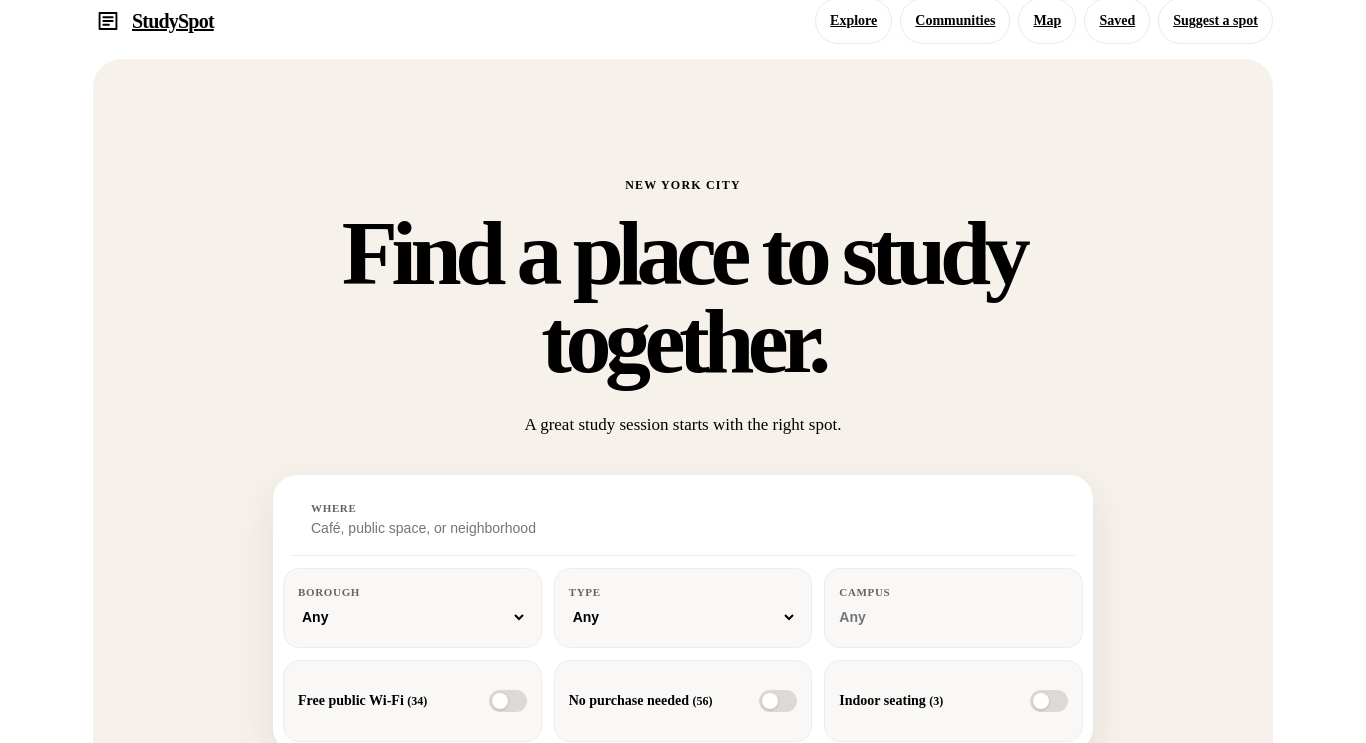
Test: the search box › stops a filter searching for a word deleted from it
Type "library" into the field labelled "Where" at (625, 528), box [311,519,939,538]
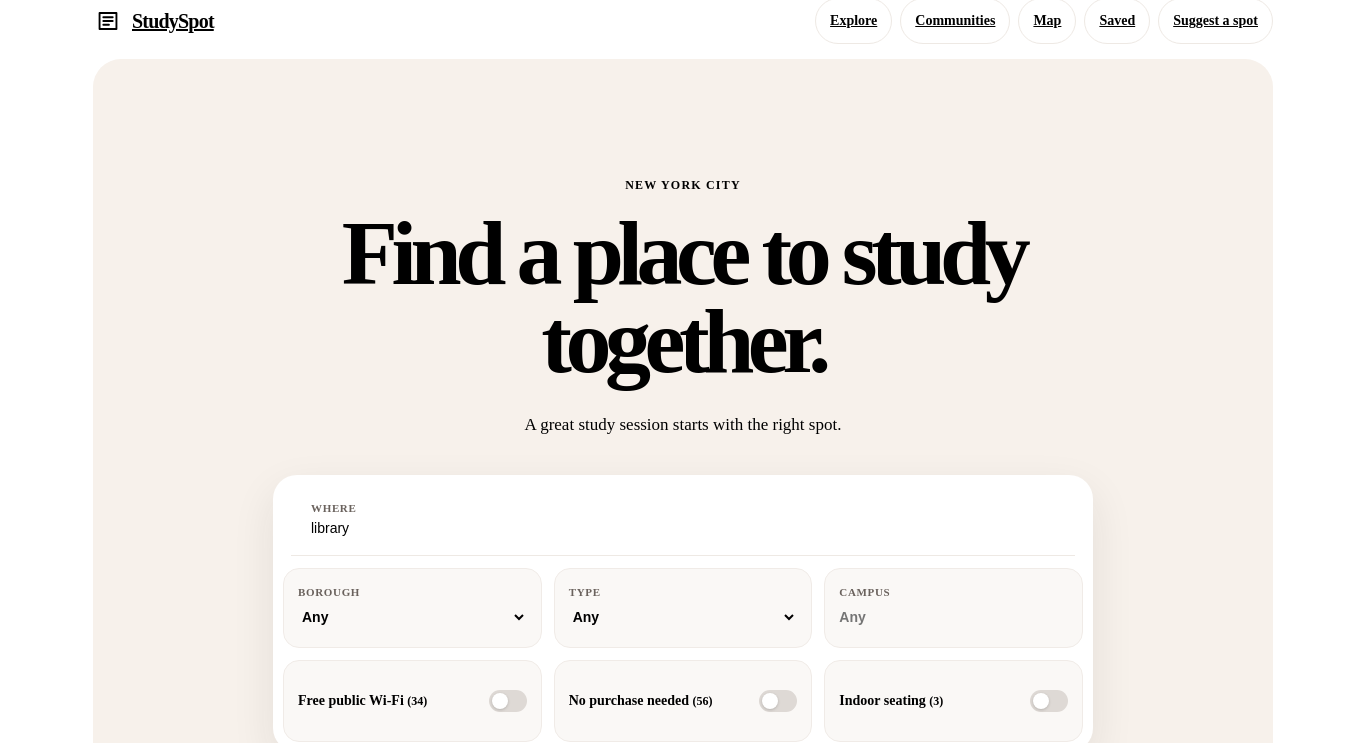
Click the button "Search" at (1025, 520), box [959,493,1091,547]
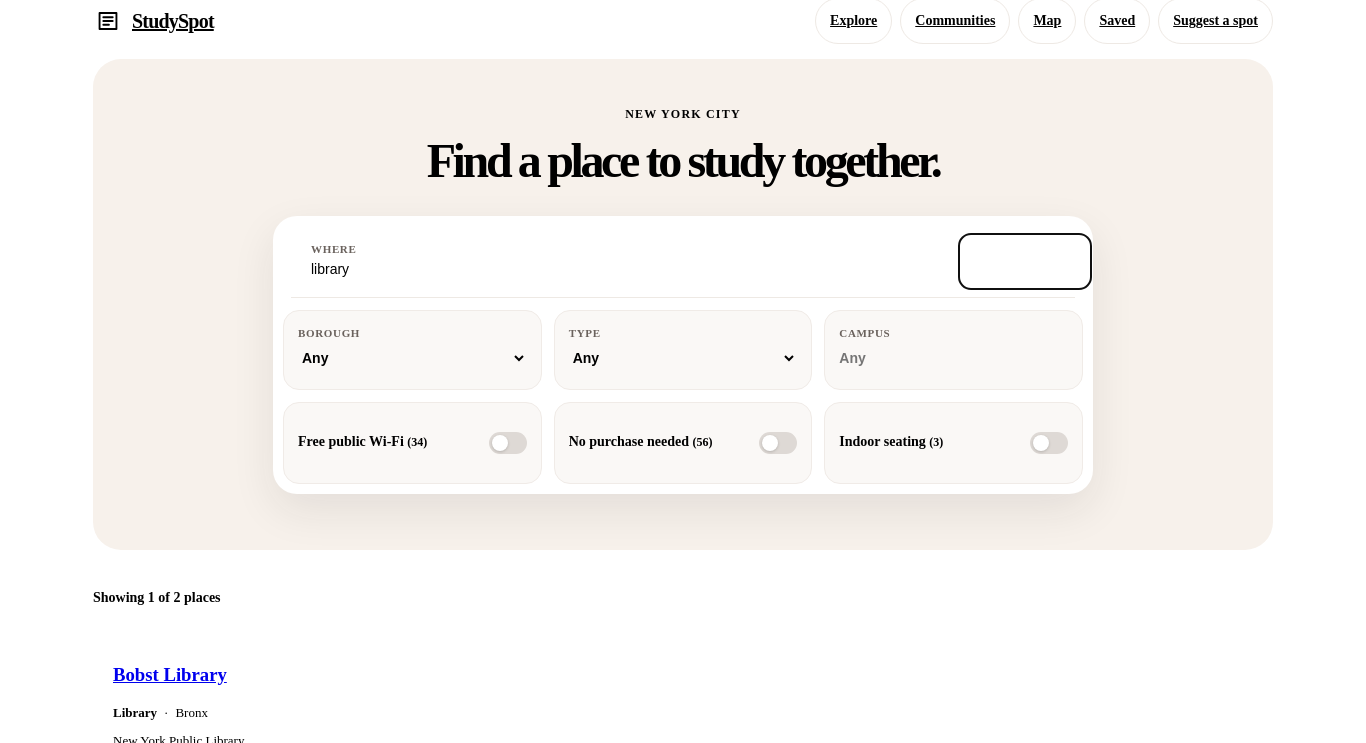
expect the link "Bobst Library" is shown: met, box [113,664,227,685]
Clear the field labelled "Where" at (625, 270), box [311,260,939,280]
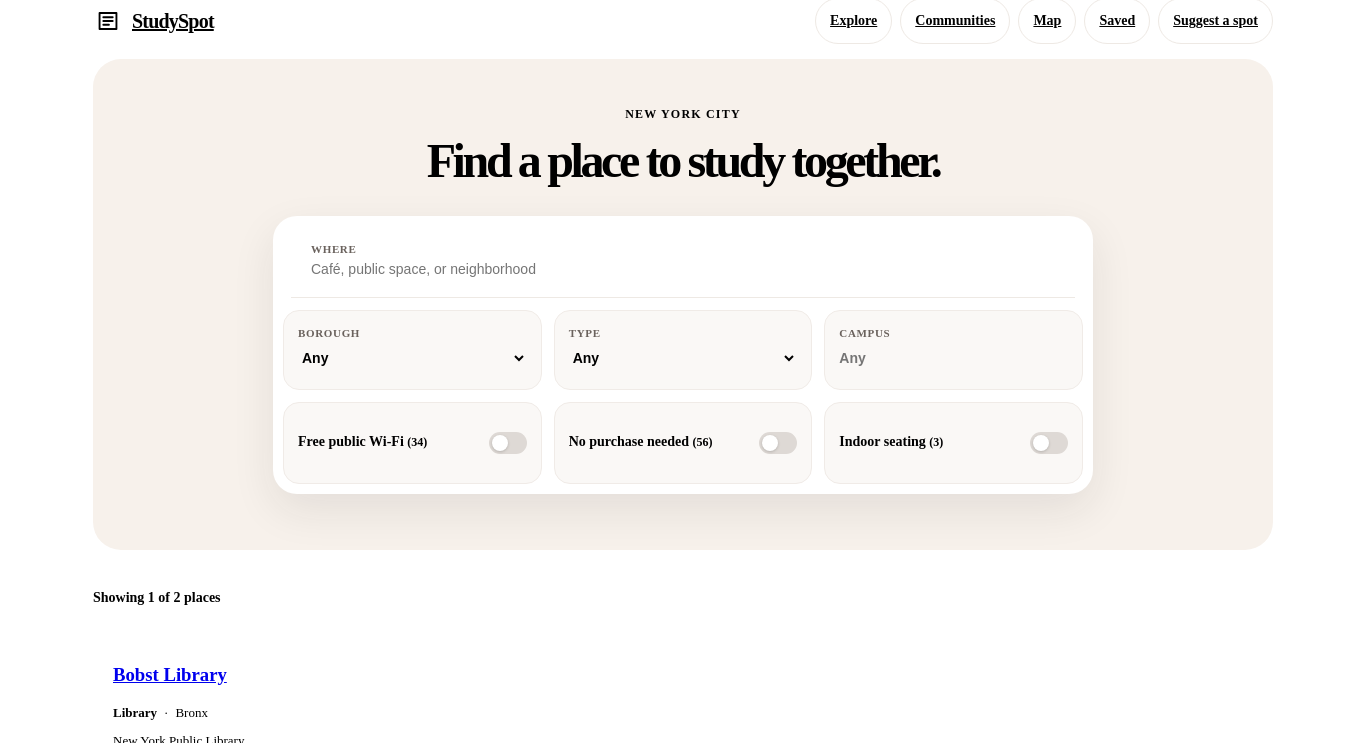
Select "Bronx (48)" in the dropdown labelled "Borough" at (412, 358), box [298,344,527,372]
(page scrolled)
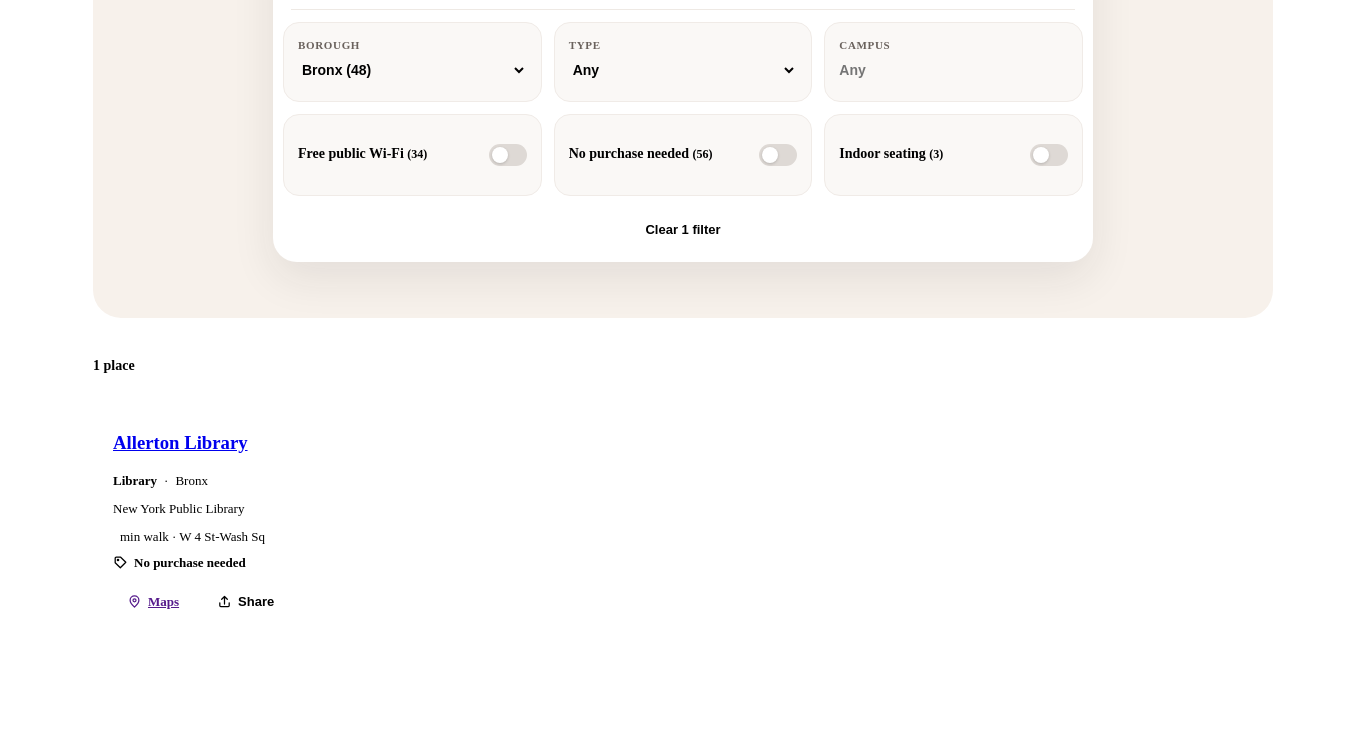
expect the text "Bronx" is shown: met, box [175,473,208,489]
expect the link "Allerton Library" is shown: met, box [113,432,248,453]
